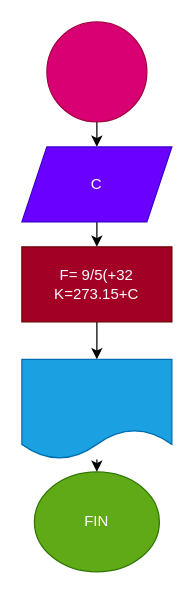
Some shapes in this 194 by 594 pixel diagram are drawn without their labels. Here are the shapes that lost their labels. From the top down, the box of each, then its label:
(46, 21, 147, 122): INICIO
(21, 358, 172, 459): F,K
